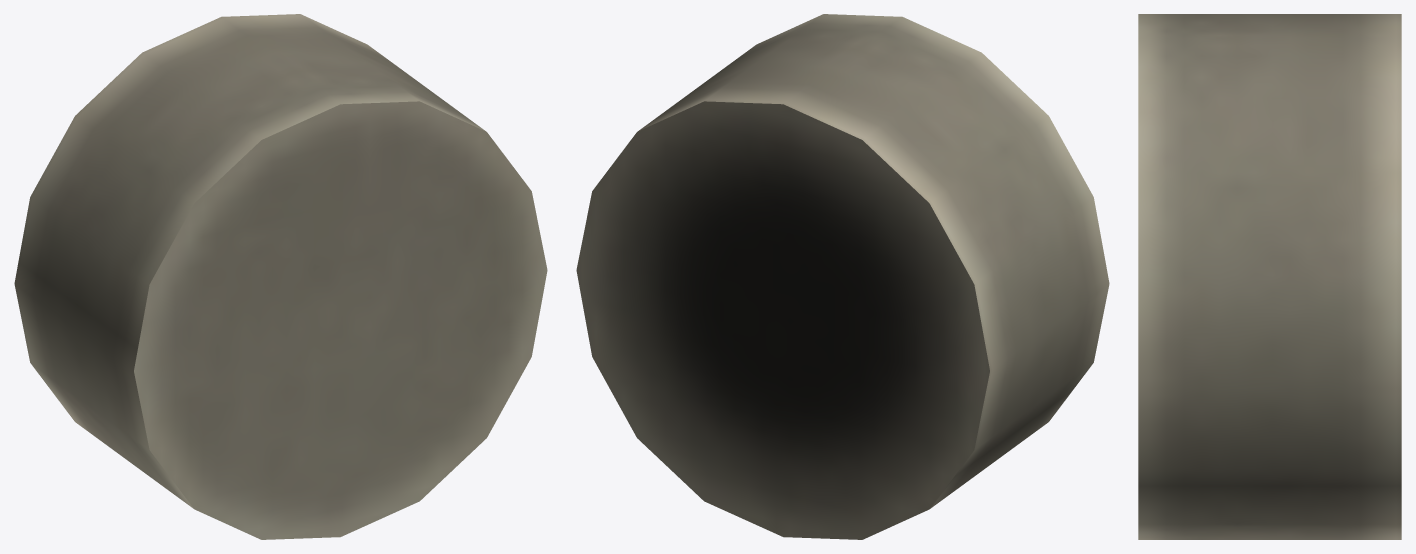
The model's file is acamar_solar_srf_1_base.obj.
The picture shows the model from 3 angles, left to right: view 1: azimuth 30°, elevation 25°; view 2: azimuth 150°, elevation 25°; view 3: azimuth 270°, elevation 25°; orthographic projection. The views are drawn at different scales.
Parts seen in each view (by area): view 1: mesh1; view 2: mesh1; view 3: mesh1.
Part boxes in pixels (x1=…): mesh1: x1=14, y1=14, x2=547, y2=539; mesh1: x1=576, y1=14, x2=1109, y2=539; mesh1: x1=1138, y1=14, x2=1401, y2=539.
Bounding box in the file's own units: 0.15 × 0.15 × 0.075.
Materials: 1 (1 with a texture image).
